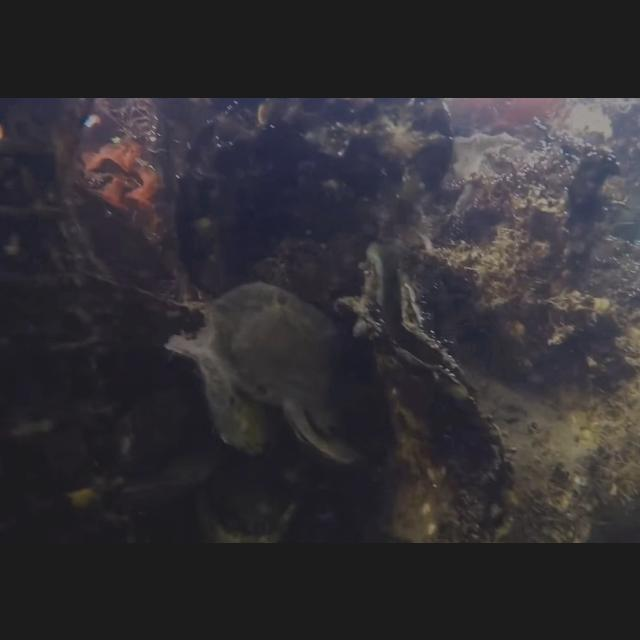Oyster-Closed: (206, 281, 376, 464)
Oyster-Open: (339, 241, 481, 404)
